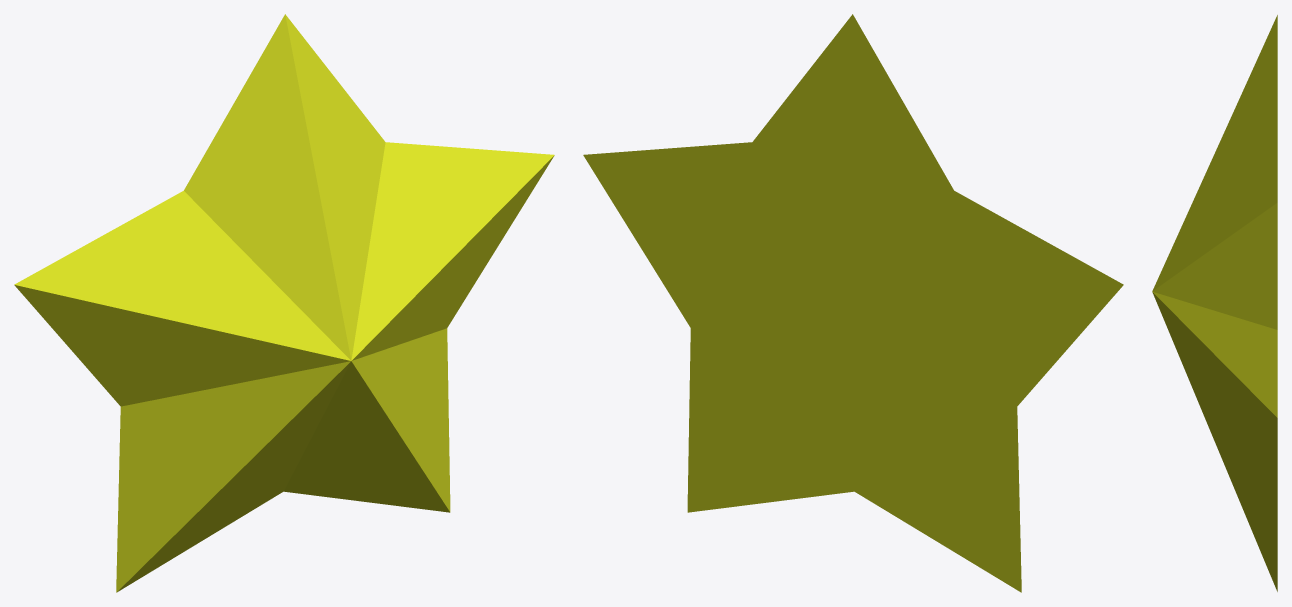
The model's file is star.obj.
3 views of the same model, side by side, from view 1: azimuth 30°, elevation 25°; view 2: azimuth 150°, elevation 25°; view 3: azimuth 270°, elevation 25° (orthographic). The views are drawn at different scales.
Parts seen in each view (by area): view 1: 円柱; view 2: 円柱; view 3: 円柱.
Boxes of the visible parts, x1=… form: 円柱: x1=14, y1=14, x2=554, y2=592; 円柱: x1=583, y1=14, x2=1123, y2=592; 円柱: x1=1152, y1=15, x2=1277, y2=591.
Size of the model in its own units: 3.15 by 3 by 0.6784.
Materials: 1 (1 with a texture image).
